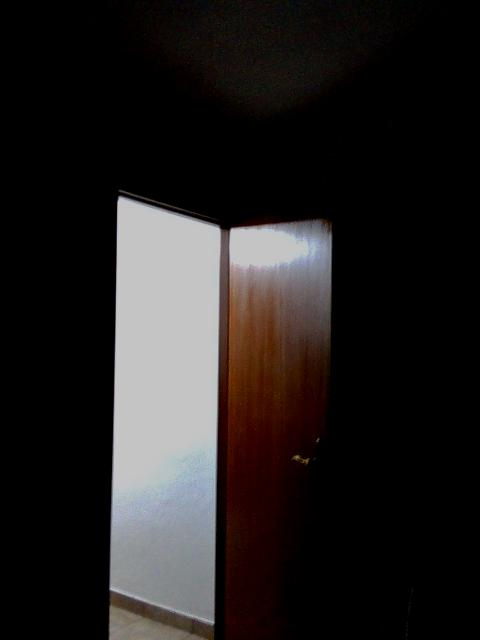open_door: (100, 169, 246, 638)
